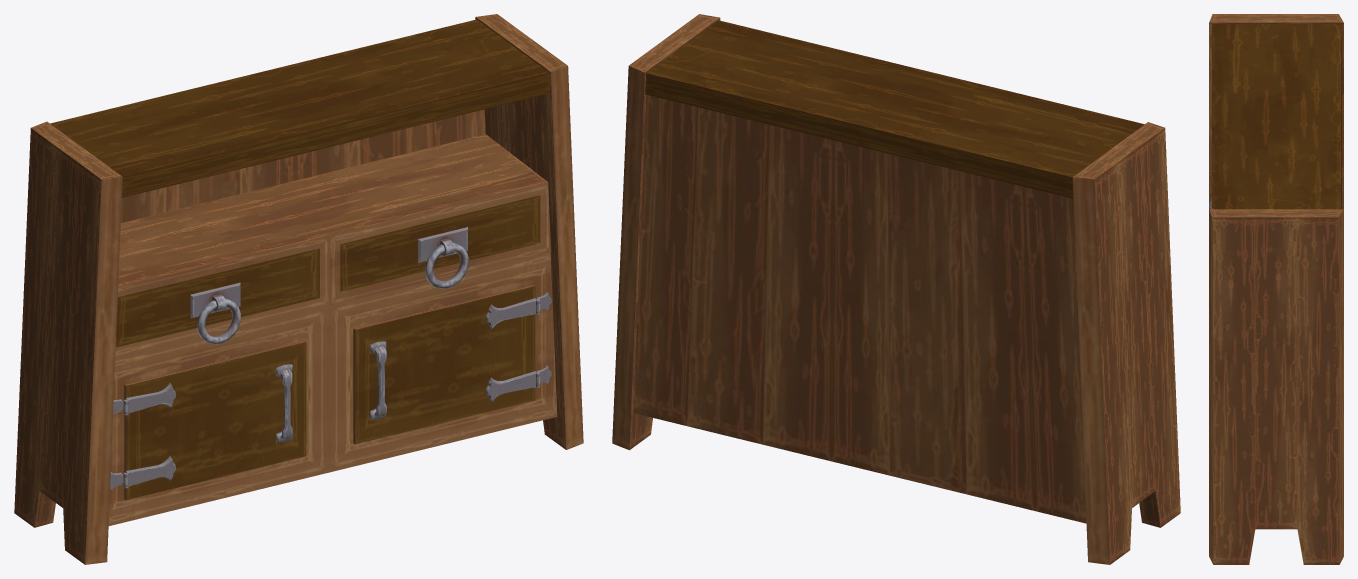
Rendered from quaternius-fantasy-props-cabinet.glb.
The picture shows the model from 3 angles, left to right: view 1: azimuth 30°, elevation 25°; view 2: azimuth 150°, elevation 25°; view 3: azimuth 270°, elevation 25°; orthographic projection. The views are drawn at different scales.
Parts seen in each view (by area): view 1: Cabinet; view 2: Cabinet; view 3: Cabinet.
Part boxes in pixels (box(x1,y1,x2,y2)): Cabinet: box(14, 14, 583, 564); Cabinet: box(612, 14, 1180, 564); Cabinet: box(1209, 14, 1343, 564).
Bounding box in the file's own units: 1.5 × 1.1 × 0.3933.
Materials: 2 (2 with a texture image).
